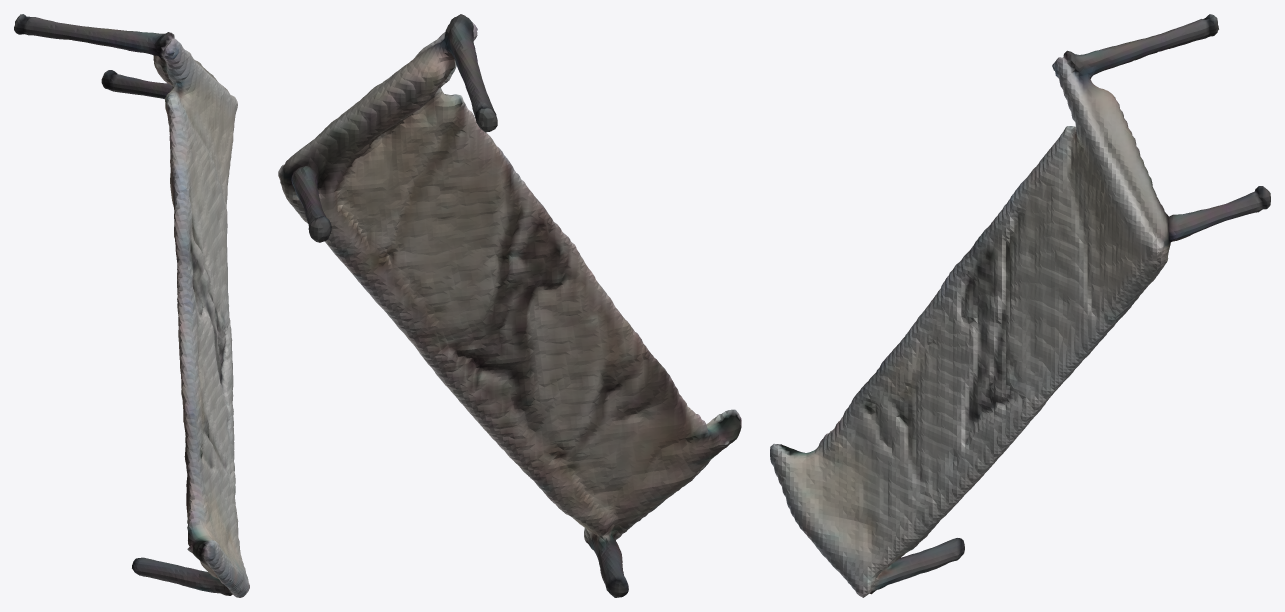
3 views of the same model, side by side, from view 1: azimuth 30°, elevation 25°; view 2: azimuth 150°, elevation 25°; view 3: azimuth 270°, elevation 25° (orthographic). The views are drawn at different scales.
Size of the model in its own units: 0.4489 by 1.03 by 0.8386.
